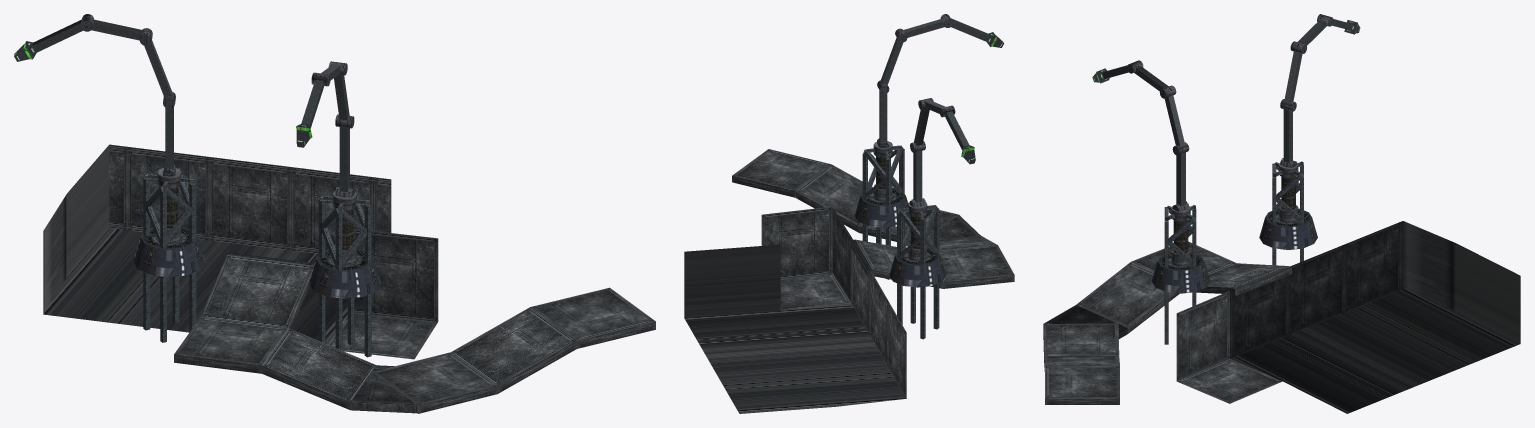
The model's file is prop_cranes_sub_side_solo.gltf.
3 views of the same model, side by side, from view 1: azimuth 30°, elevation 25°; view 2: azimuth 150°, elevation 25°; view 3: azimuth 270°, elevation 25° (orthographic). The views are drawn at different scales.
Parts seen in each view (by area): view 1: cube151, polymsh61, polymsh59, cube156, polymsh66, polymsh57, polymsh65, polymsh50, polymsh67, polymsh62; view 2: cube151, polymsh61, polymsh59, cube156, polymsh66, polymsh65, polymsh62, polymsh57, polymsh50, polymsh67; view 3: cube151, polymsh61, polymsh59, cube156, polymsh50, polymsh65, polymsh62, polymsh67, polymsh57, polymsh66.
Boxes of the visible parts, x1,y1,x2,y2 form: cube151: (43, 144, 438, 359); polymsh61: (174, 252, 418, 413); polymsh59: (372, 307, 576, 413); cube156: (530, 287, 655, 348); polymsh66: (143, 168, 196, 342); polymsh57: (318, 195, 371, 357); polymsh65: (133, 168, 205, 277); polymsh50: (309, 191, 380, 298); polymsh67: (14, 14, 175, 169); polymsh62: (296, 61, 354, 191); cube151: (684, 206, 906, 413); polymsh61: (850, 215, 1014, 288); polymsh59: (795, 165, 958, 241); cube156: (732, 149, 831, 197); polymsh66: (897, 199, 939, 339); polymsh65: (889, 202, 946, 287); polymsh62: (877, 14, 1003, 142); polymsh57: (862, 139, 904, 279); polymsh50: (854, 141, 910, 227); polymsh67: (910, 98, 975, 202); cube151: (1176, 221, 1520, 413); polymsh61: (1043, 241, 1291, 338); polymsh59: (1043, 323, 1119, 371); cube156: (1045, 366, 1119, 404); polymsh50: (1151, 205, 1210, 293); polymsh65: (1259, 162, 1317, 249); polymsh62: (1092, 60, 1189, 206); polymsh67: (1280, 14, 1360, 162); polymsh57: (1164, 205, 1196, 344); polymsh66: (1272, 161, 1303, 265).
Size of the model in its own units: 45.24 by 31.88 by 50.81.
Materials: 14 (14 with a texture image).
